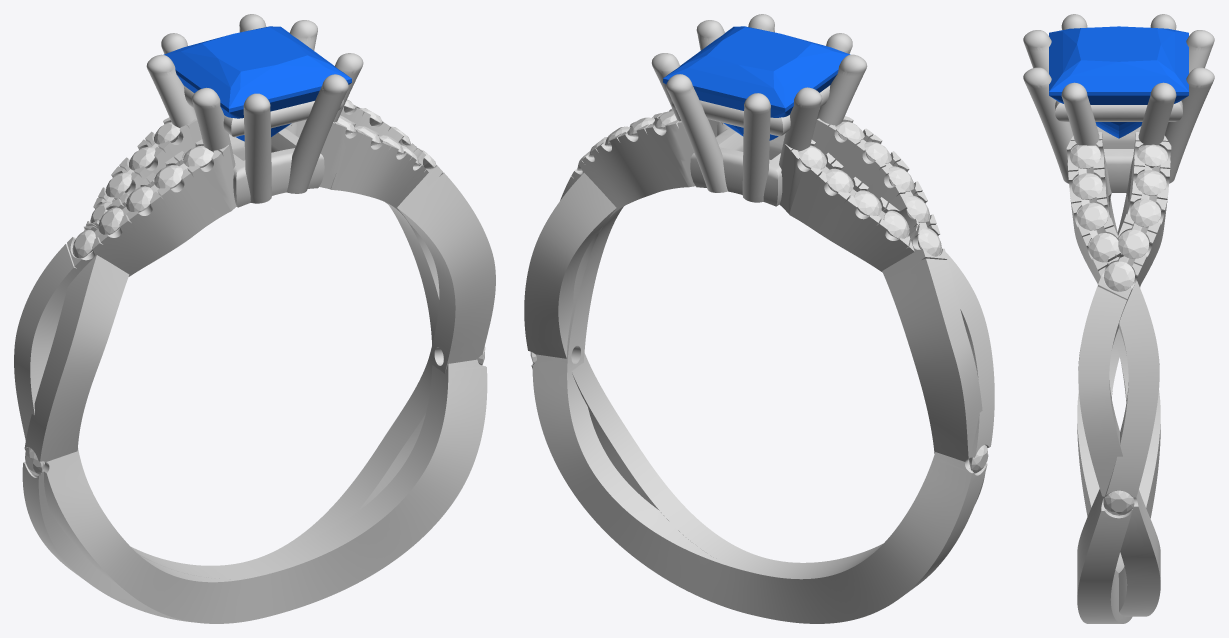
The model's file is bluesapphire-princess-platinum-8prong-twist-sidestones.glb.
3 renders of one model, left to right at view 1: azimuth 30°, elevation 25°; view 2: azimuth 150°, elevation 25°; view 3: azimuth 270°, elevation 25°, orthographic.
Visible parts, largest first — view 1: metal.001, stone; view 2: metal.001, stone; view 3: metal.001, stone, side.015, side.016, side.017, side.012, side.011, side.013, side.018, side.014, side.010, side.019.
Part boxes in pixels (box(x1,y1,x2,y2)): metal.001: box(14, 14, 495, 623); stone: box(163, 26, 351, 141); metal.001: box(524, 14, 994, 623); stone: box(663, 26, 850, 140); metal.001: box(1023, 14, 1214, 623); stone: box(1049, 26, 1188, 138); side.015: box(1104, 261, 1134, 291); side.016: box(1118, 229, 1149, 258); side.017: box(1130, 199, 1160, 227); side.012: box(1077, 202, 1107, 230); side.011: box(1089, 233, 1119, 262); side.013: box(1072, 173, 1102, 199); side.018: box(1135, 170, 1166, 195); side.014: box(1070, 145, 1100, 168); side.010: box(1103, 490, 1134, 515); side.019: box(1137, 144, 1167, 166).
Bounding box in the file's own units: 19.97 × 23.65 × 7.42.
